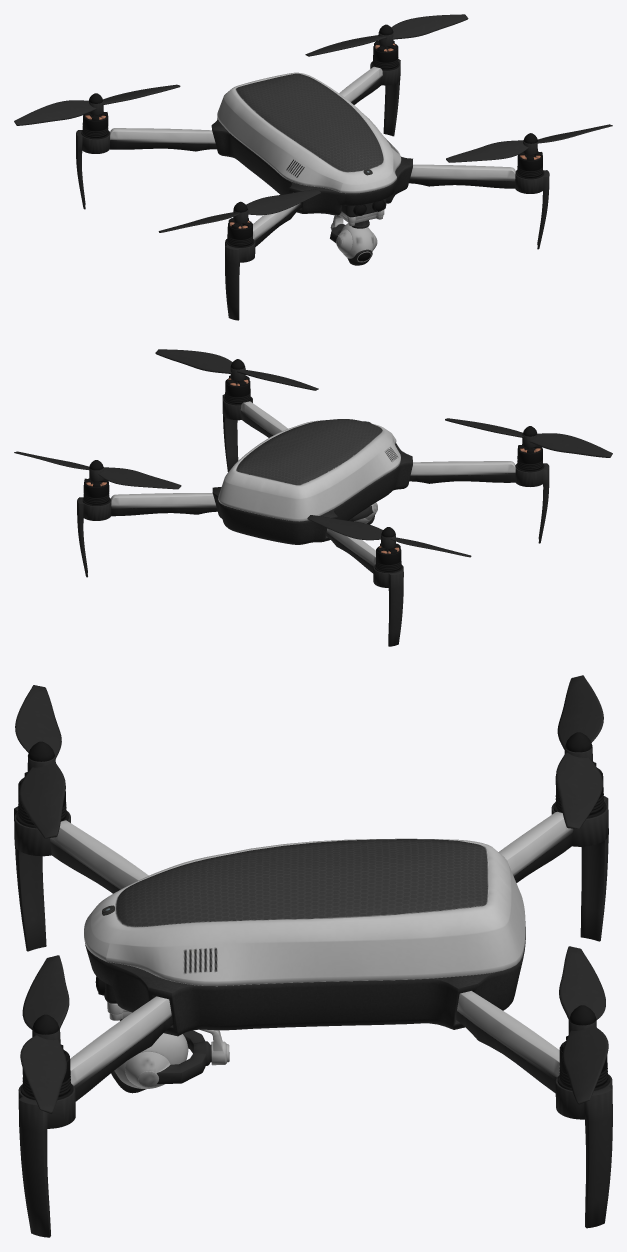
The model's file is drone.glb.
3 renders of one model, top to bottom at view 1: azimuth 30°, elevation 25°; view 2: azimuth 150°, elevation 25°; view 3: azimuth 270°, elevation 25°, orthographic. The views are drawn at different scales.
Visible parts, largest first — view 1: desirefx_me_17, desirefx_me_15, desirefx_me_31, desirefx_me_29, desirefx_me_28, desirefx_me_30, desirefx_me_39, desirefx_me_36, desirefx_me_42, desirefx_me_32, desirefx_me_23, desirefx_me_41 (+4 smaller); view 2: desirefx_me_17, desirefx_me_15, desirefx_me_28, desirefx_me_30, desirefx_me_29, desirefx_me_31, desirefx_me_32, desirefx_me_42, desirefx_me_39, desirefx_me_36, desirefx_me_38, desirefx_me_41 (+2 smaller); view 3: desirefx_me_17, desirefx_me_15, desirefx_me_31, desirefx_me_30, desirefx_me_28, desirefx_me_29, desirefx_me_42, desirefx_me_39, desirefx_me_32, desirefx_me_36, desirefx_me_23.
Boxes of the visible parts, x1,y1,x2,y2 form: desirefx_me_17: (217,72,401,193); desirefx_me_15: (211,118,412,217); desirefx_me_31: (409,164,549,249); desirefx_me_29: (76,128,216,209); desirefx_me_28: (225,203,301,320); desirefx_me_30: (339,59,400,136); desirefx_me_39: (305,14,468,56); desirefx_me_36: (14,84,180,125); desirefx_me_42: (446,124,612,162); desirefx_me_32: (158,189,320,232); desirefx_me_23: (330,215,377,265); desirefx_me_41: (372,40,398,69); desirefx_me_17: (218,419,400,521); desirefx_me_15: (212,443,412,544); desirefx_me_28: (409,461,549,543); desirefx_me_30: (77,493,217,577); desirefx_me_29: (326,528,403,646); desirefx_me_31: (222,394,287,472); desirefx_me_32: (445,418,612,457); desirefx_me_42: (155,349,318,390); desirefx_me_39: (14,451,181,489); desirefx_me_36: (307,515,471,557); desirefx_me_38: (376,543,401,571); desirefx_me_41: (83,478,109,504); desirefx_me_17: (84,838,525,986); desirefx_me_15: (85,927,525,1036); desirefx_me_31: (18,996,172,1237); desirefx_me_30: (456,991,612,1228); desirefx_me_28: (14,806,148,951); desirefx_me_29: (498,796,608,941); desirefx_me_42: (20,955,69,1113); desirefx_me_39: (559,946,608,1104); desirefx_me_32: (15,685,65,838); desirefx_me_36: (556,675,603,828); desirefx_me_23: (111,1029,229,1093).
Size of the model in its own units: 10 by 2.59 by 6.08.
77 materials, 77 textured.
